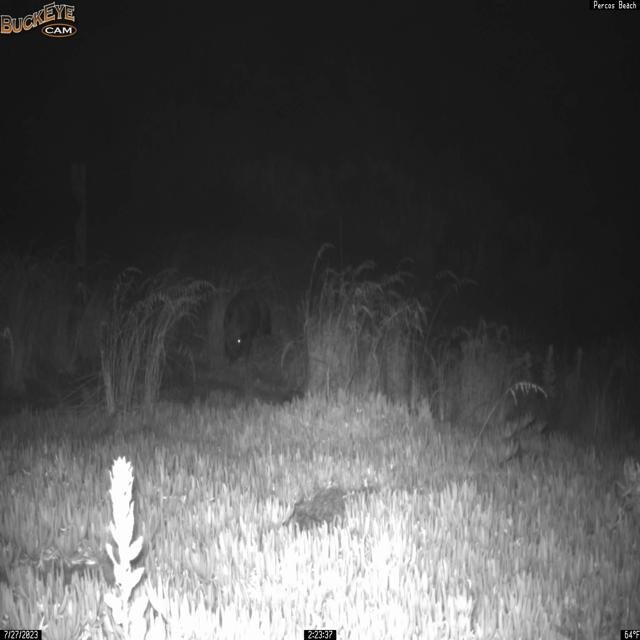pig: (222, 288, 273, 367)
